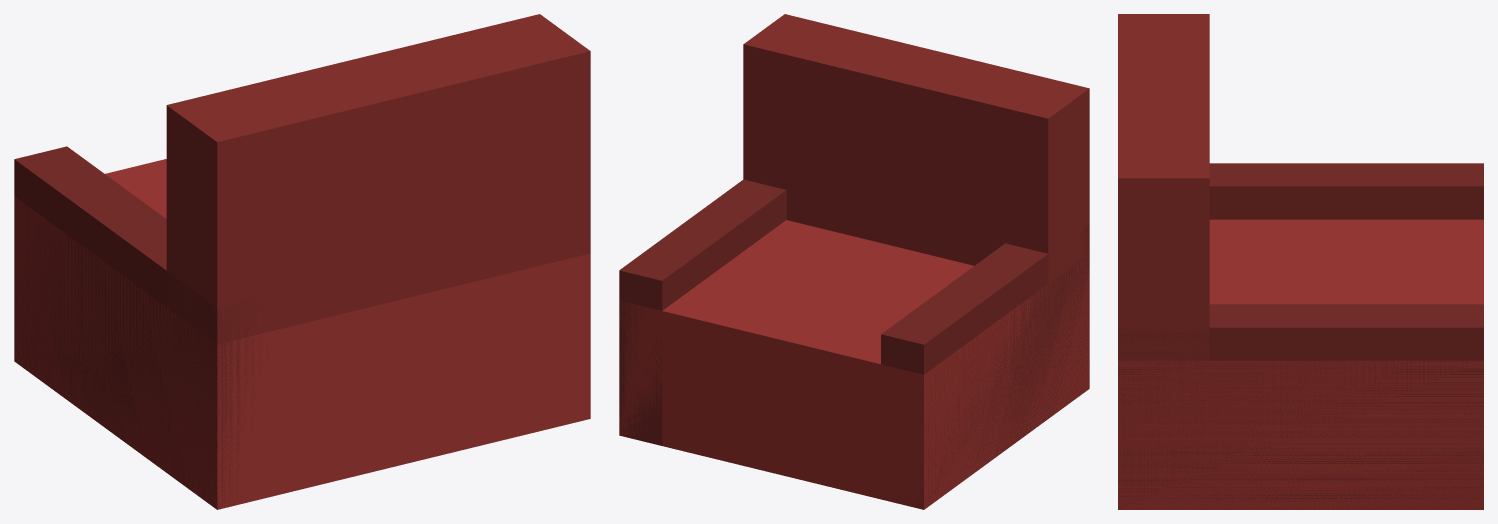
File: armchair.glb
3 renders of one model, left to right at view 1: azimuth 30°, elevation 25°; view 2: azimuth 150°, elevation 25°; view 3: azimuth 270°, elevation 25°, orthographic. The views are drawn at different scales.
Bounding box in the file's own units: 85 × 80 × 80.
